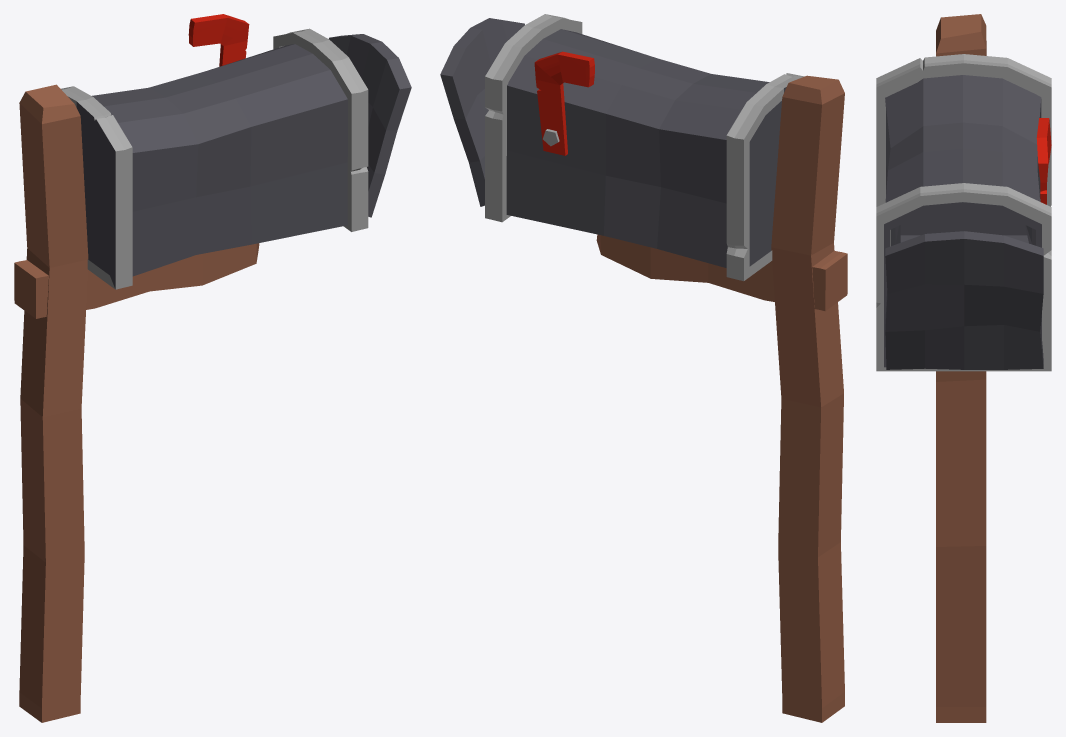
File: Mailbox.fbx
The picture shows the model from 3 angles, left to right: view 1: azimuth 30°, elevation 25°; view 2: azimuth 150°, elevation 25°; view 3: azimuth 270°, elevation 25°; orthographic projection. The views are drawn at different scales.
Visible parts, largest first — view 1: Cube.8064; view 2: Cube.8064; view 3: Cube.8064.
Boxes of the visible parts, x1,y1,x2,y2 form: Cube.8064: (14, 14, 411, 722); Cube.8064: (440, 14, 847, 722); Cube.8064: (876, 14, 1051, 722).
Size of the model in its own units: 138 by 229 by 52.43.
Materials: 1 (1 with a texture image).
